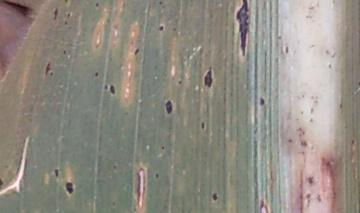tarspot: (199, 64, 216, 92), (62, 178, 78, 196), (162, 96, 175, 116), (42, 58, 54, 77), (255, 93, 270, 108), (196, 117, 208, 133), (209, 189, 221, 204), (50, 6, 61, 21), (155, 22, 167, 34), (108, 81, 117, 97), (175, 76, 186, 88), (91, 68, 101, 80), (64, 10, 76, 20), (52, 166, 61, 179), (132, 45, 142, 56), (90, 1, 103, 9), (154, 1, 167, 9), (151, 170, 161, 180), (157, 144, 169, 151), (61, 47, 70, 55), (111, 163, 119, 171), (169, 25, 177, 33), (102, 82, 109, 91), (1, 173, 4, 188)
